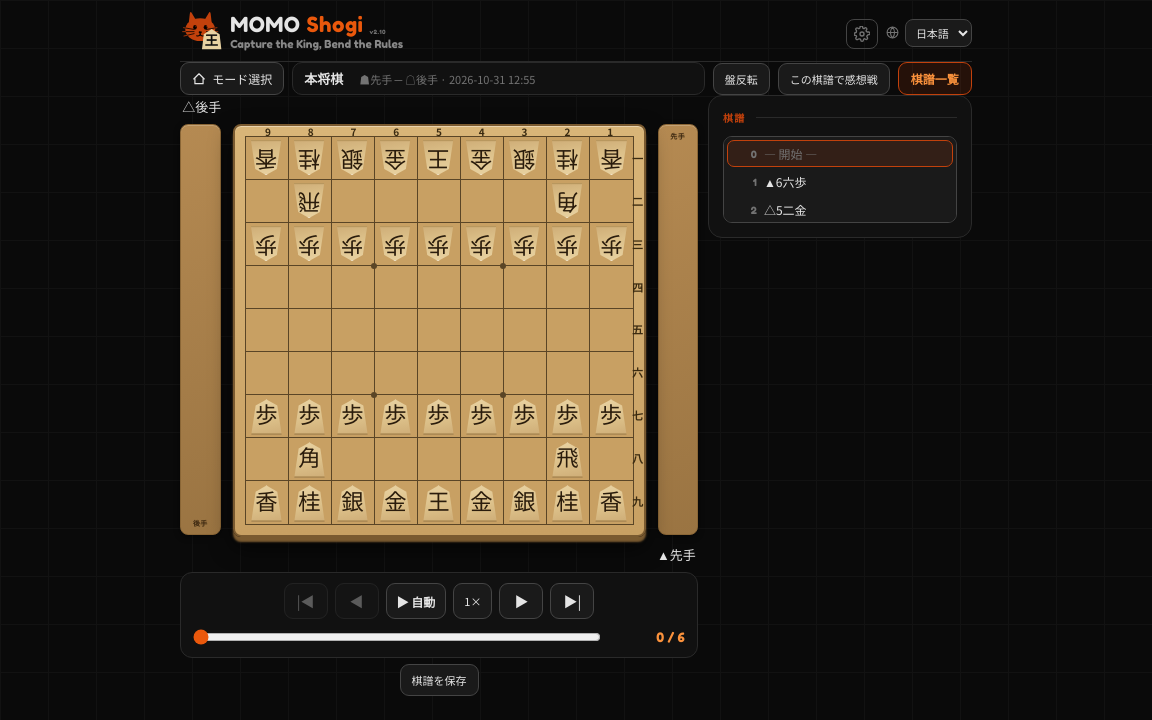
it: S08 フォルダを指定してあるとき › ★フォルダの中の棋譜を選んでも確認は出ず、記憶にも触らない
The width and height of the screenshot is (1152, 720).
Click the button "棋譜一覧" at (935, 79), box [898, 62, 972, 95]
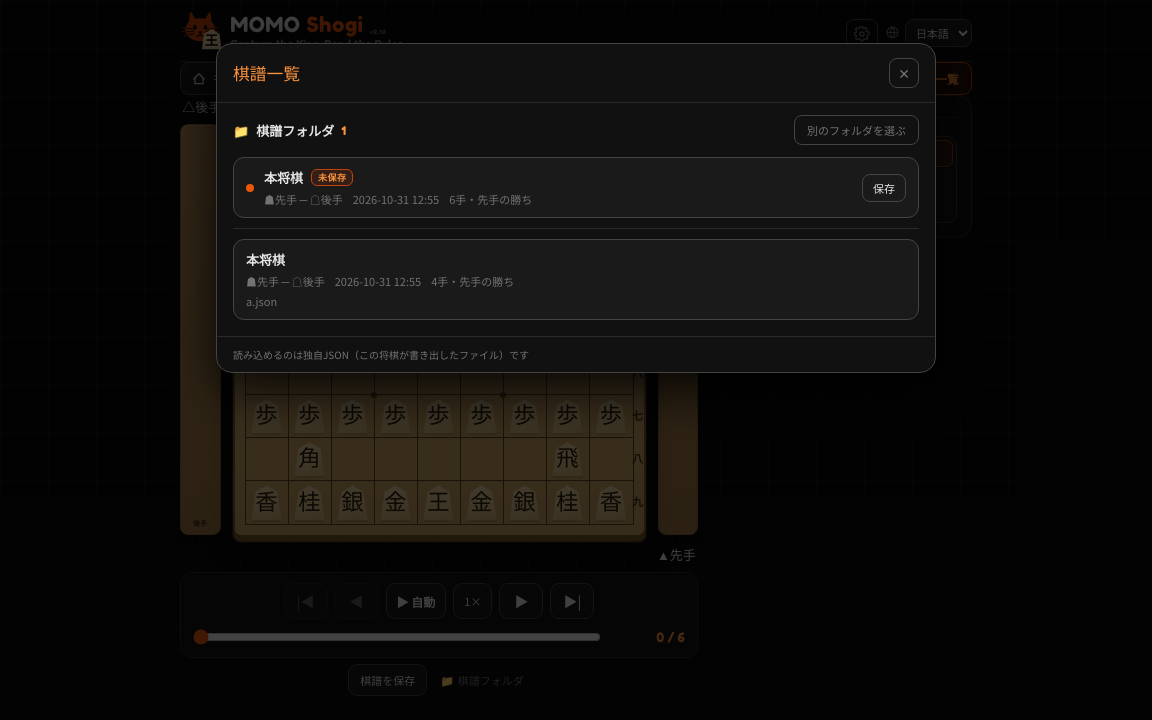
Check: the button "別のフォルダを選ぶ" is shown, box [794, 115, 919, 145]
Check: the number of buttons with class "kcard" is 2
Click the button with class "kcard" that starts with "本将棋" at (266, 260), box [233, 239, 919, 320]
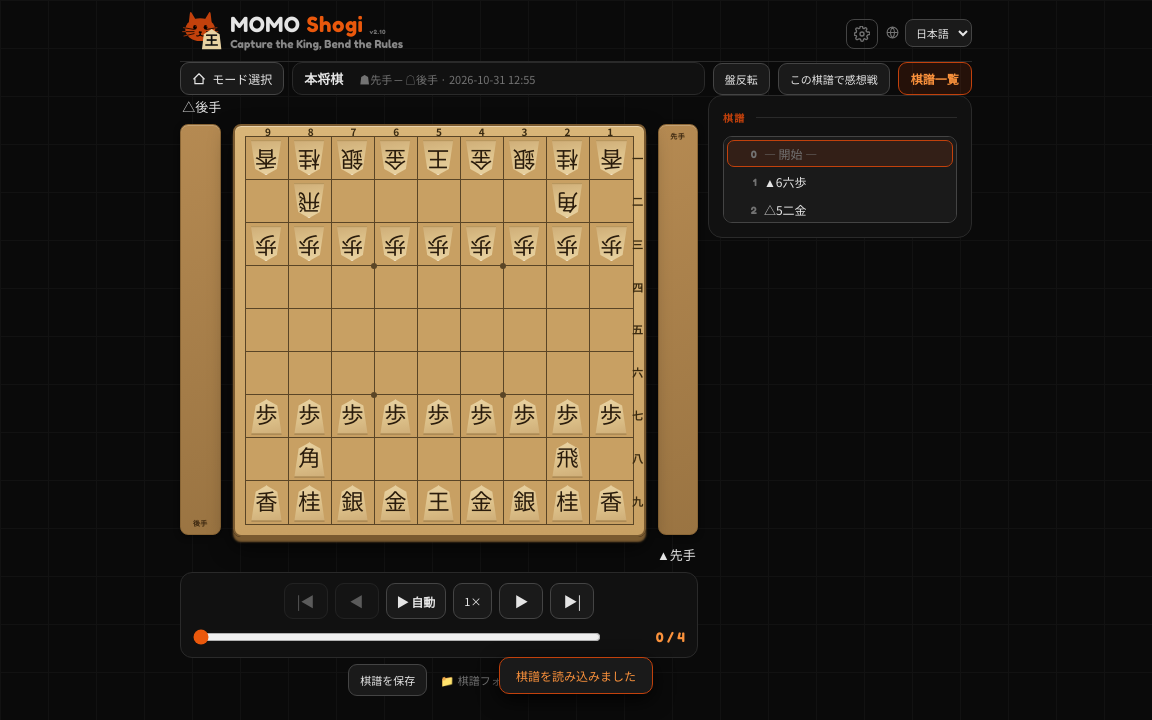
Check: the text "0 / 4" is shown, box [656, 629, 685, 645]
